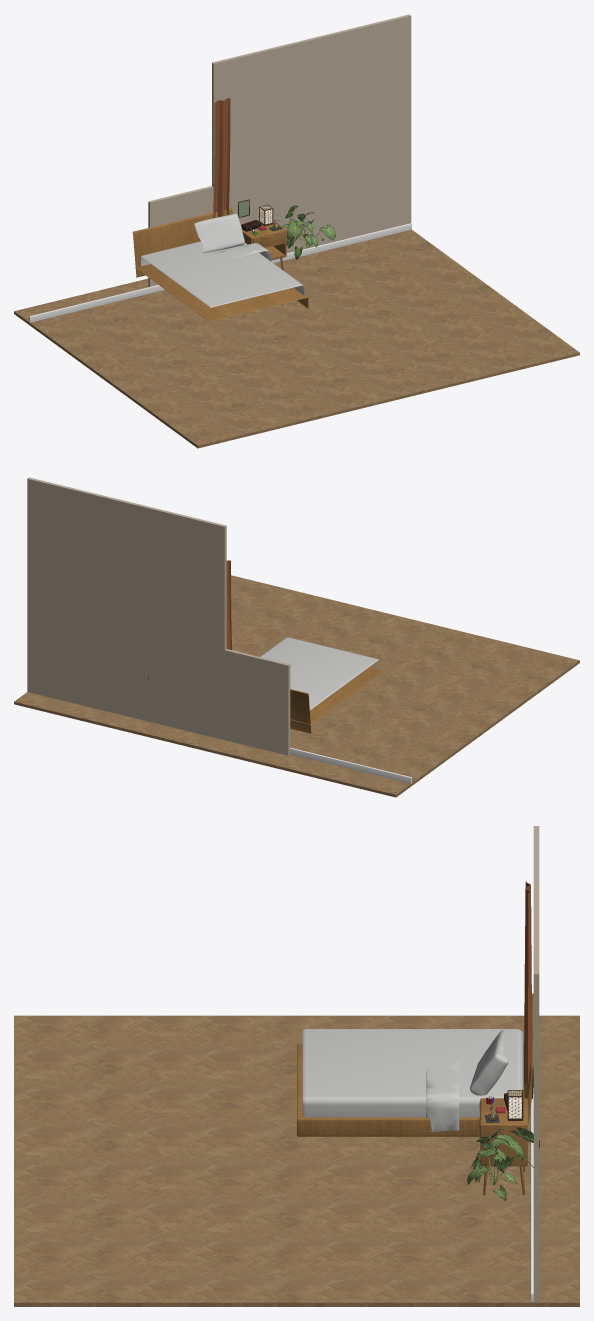
Rendered from bedroom.glb.
The picture shows the model from 3 angles, top to bottom: view 1: azimuth 30°, elevation 25°; view 2: azimuth 150°, elevation 25°; view 3: azimuth 270°, elevation 25°; orthographic projection. The views are drawn at different scales.
Parts seen in each view (by area): view 1: Floor, WallRight, WallFar, Mattress, BedFrame, Headboard, Curtain1, Skirting, WallBelow, Pillow1, potted_plant_02, Nightstand; view 2: Floor, WallRight, WallFar, WallBelow, Mattress, BedFrame, Skirting, Headboard, Curtain1; view 3: Floor, Mattress, BedFrame, WallFar, SheetFold, Nightstand, potted_plant_02, Curtain1, Pillow1, Skirting, WallRight.
Part boxes in pixels (left/top/right/bottom): Floor: left=14, top=229, right=579, bottom=448; WallRight: left=212, top=31, right=340, bottom=253; WallFar: left=339, top=14, right=411, bottom=240; Mattress: left=140, top=241, right=304, bottom=307; BedFrame: left=135, top=264, right=308, bottom=321; Headboard: left=132, top=208, right=232, bottom=277; Curtain1: left=213, top=98, right=230, bottom=218; Skirting: left=29, top=223, right=411, bottom=322; WallBelow: left=148, top=186, right=213, bottom=287; Pillow1: left=194, top=213, right=244, bottom=253; potted_plant_02: left=282, top=205, right=335, bottom=259; Nightstand: left=242, top=220, right=286, bottom=270; Floor: left=14, top=575, right=579, bottom=797; WallRight: left=97, top=494, right=226, bottom=739; WallFar: left=27, top=477, right=98, bottom=708; WallBelow: left=224, top=649, right=290, bottom=755; Mattress: left=260, top=637, right=378, bottom=710; BedFrame: left=290, top=667, right=383, bottom=724; Skirting: left=290, top=747, right=411, bottom=783; Headboard: left=290, top=689, right=311, bottom=733; Curtain1: left=226, top=560, right=231, bottom=649; Floor: left=14, top=1015, right=579, bottom=1306; Mattress: left=302, top=1029, right=523, bottom=1117; BedFrame: left=297, top=1044, right=523, bottom=1136; WallFar: left=533, top=921, right=539, bottom=1302; SheetFold: left=426, top=1061, right=459, bottom=1132; Nightstand: left=479, top=1098, right=527, bottom=1195; potted_plant_02: left=467, top=1127, right=539, bottom=1200; Curtain1: left=524, top=881, right=532, bottom=1086; Pillow1: left=470, top=1029, right=508, bottom=1095; Skirting: left=530, top=1087, right=533, bottom=1302; WallRight: left=533, top=826, right=539, bottom=921.
Size of the model in its own units: 60 by 32.4 by 50.
47 materials, 10 textured.
